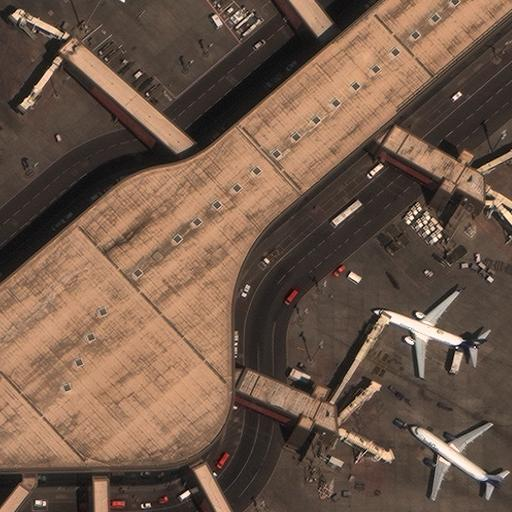Medium Civil Transport: (372, 291, 487, 376), (409, 422, 503, 499)
